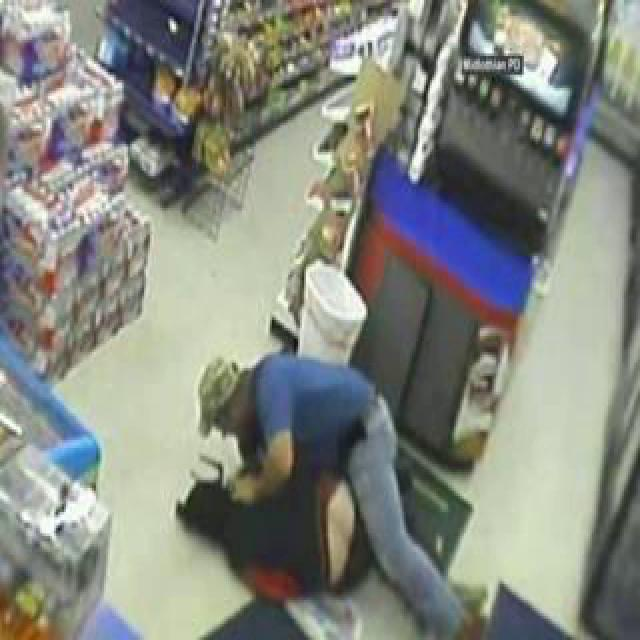arrest: (150, 304, 523, 640)
